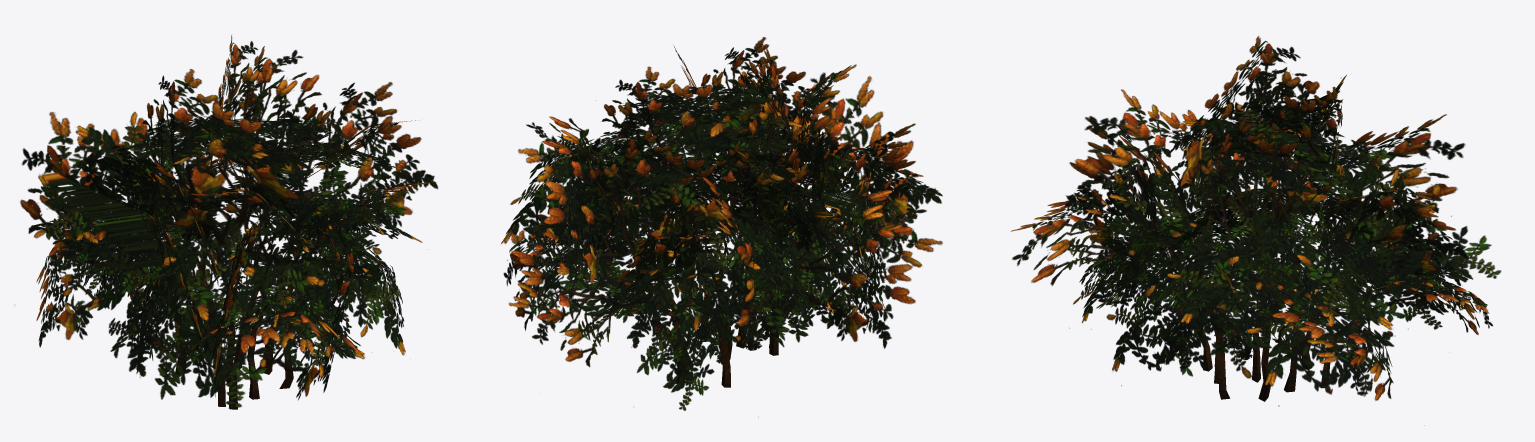
The model's file is Plant_B.glb.
3 renders of one model, left to right at view 1: azimuth 30°, elevation 25°; view 2: azimuth 150°, elevation 25°; view 3: azimuth 270°, elevation 25°, orthographic.
Parts seen in each view (by area): view 1: Plant_B; view 2: Plant_B; view 3: Plant_B.
Boxes of the visible parts, x1=… form: Plant_B: x1=20, y1=35, x2=438, y2=409; Plant_B: x1=501, y1=37, x2=942, y2=410; Plant_B: x1=1011, y1=36, x2=1501, y2=425.
Bounding box in the file's own units: 1.04 × 0.7864 × 1.1.
Materials: 1 (1 with a texture image).
